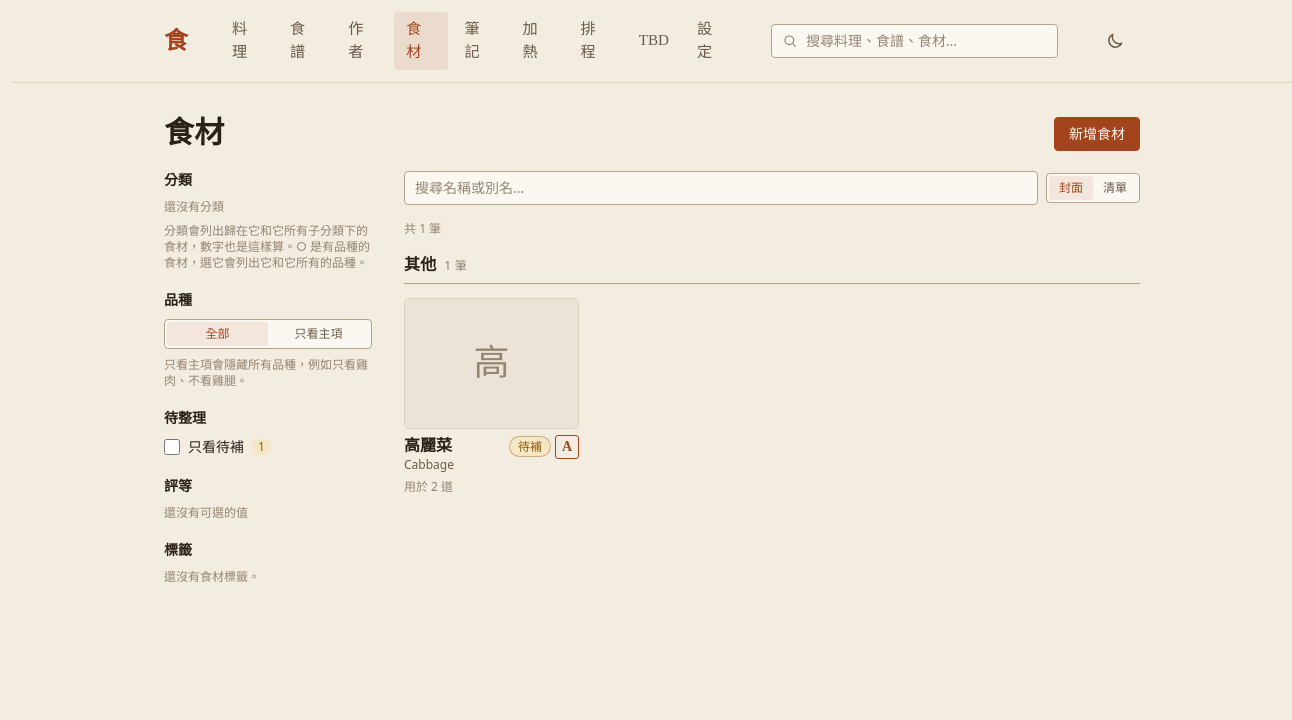
Test case: the ingredient library › shows the stub backlog count before the filter is on
expect the label "只看待補 1" is shown: met, box [164,437,271,456]
Click the checkbox labelled "只看待補 1".
click(172, 447)  # box [164,439,180,455]
(page scrolled)
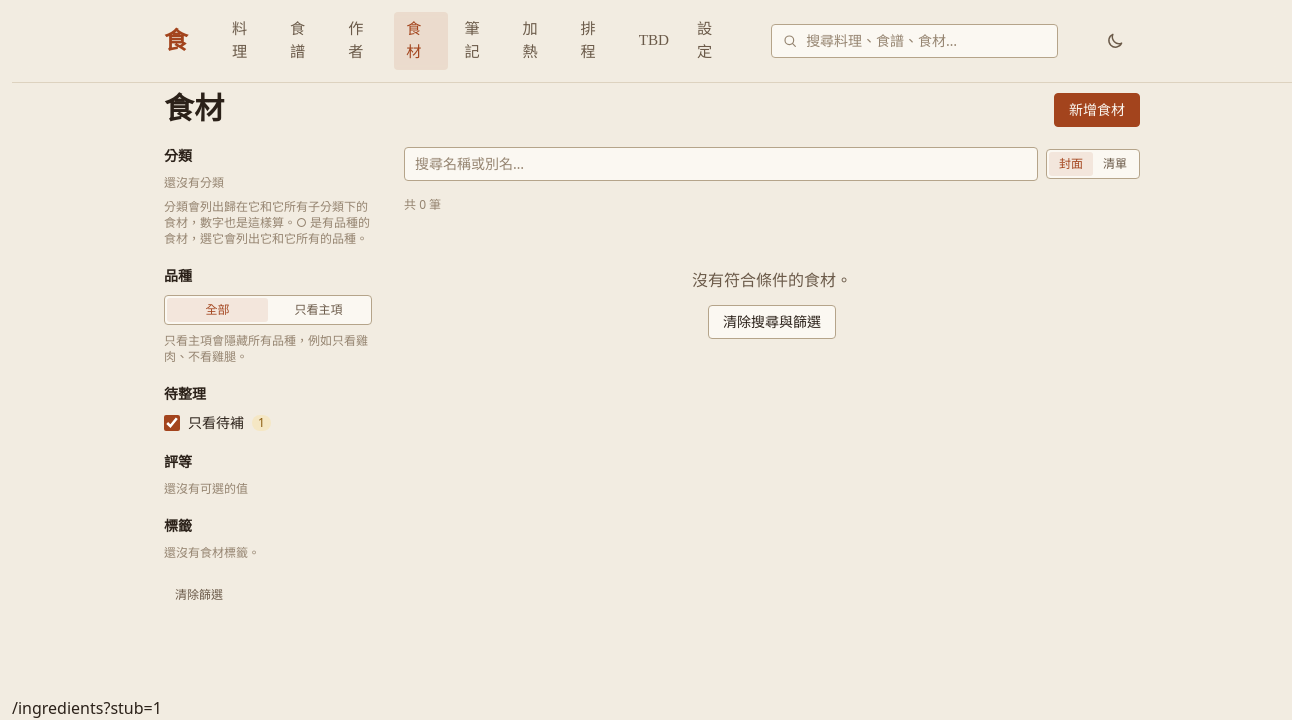
expect the text with test id "location" reads "/ingredients?stub=1": met, box [12,697,162,719]
